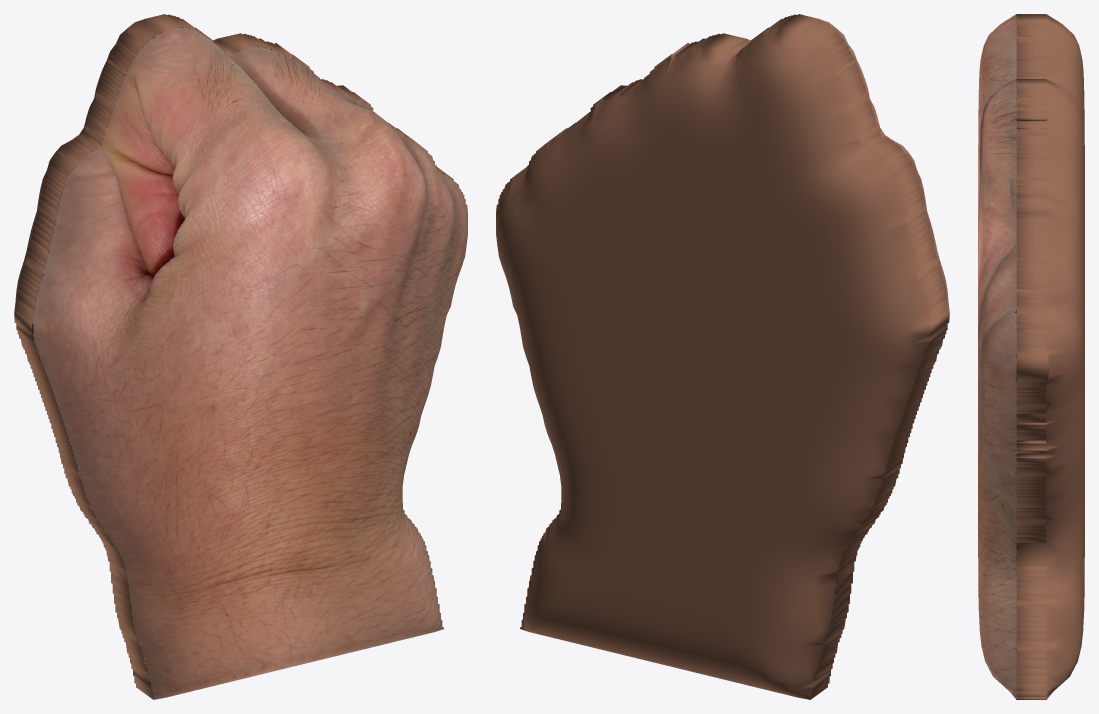
The model's file is fps-right-photo-grip.glb.
3 renders of one model, left to right at view 1: azimuth 30°, elevation 25°; view 2: azimuth 150°, elevation 25°; view 3: azimuth 270°, elevation 25°, orthographic. The views are drawn at different scales.
Visible parts, largest first — view 1: RightHand_Skin; view 2: RightHand_Skin; view 3: RightHand_Skin.
Part boxes in pixels (x1,y1,x2,y2): RightHand_Skin: (14,14,467,699); RightHand_Skin: (496,14,949,699); RightHand_Skin: (978,14,1084,699).
Size of the model in its own units: 0.1001 by 0.1465 by 0.025.
Materials: 2 (1 with a texture image).
